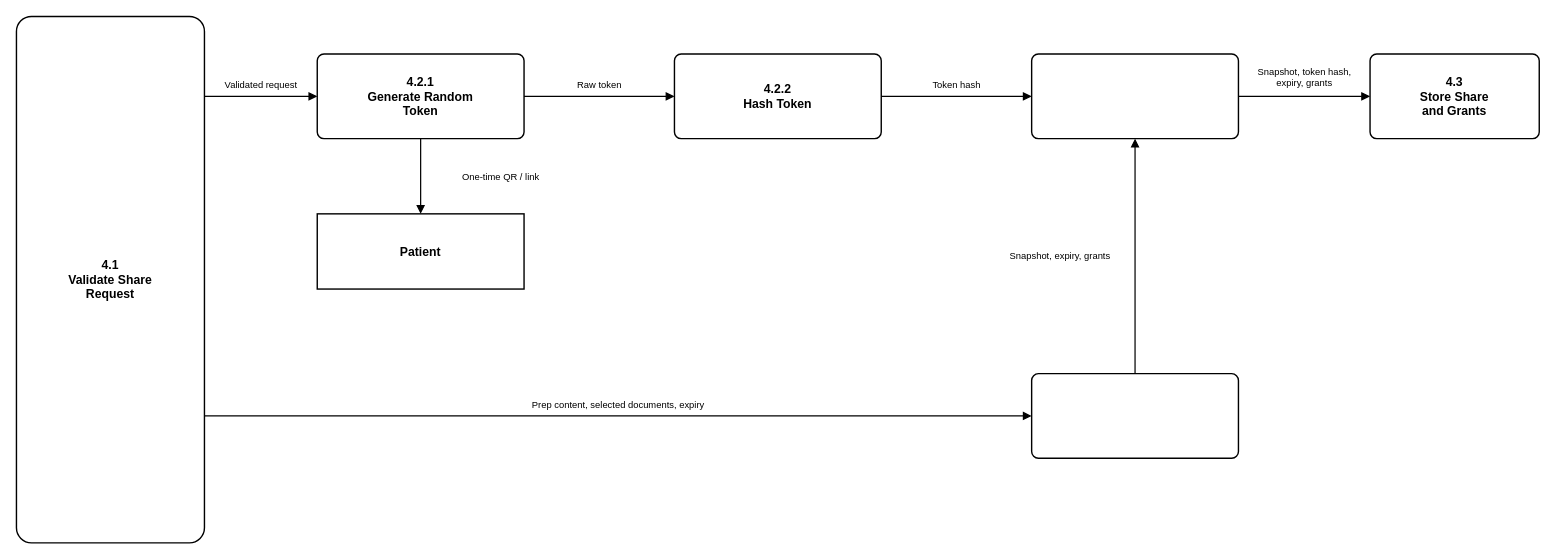
Image size: 1557x560. Some labels were removed from this diagram. Each missing label, with the centre of its shape:
4.2.3 Build Frozen Snapshot: the point at 1135,416
4.2.4 Assemble Share Package: the point at 1135,96
